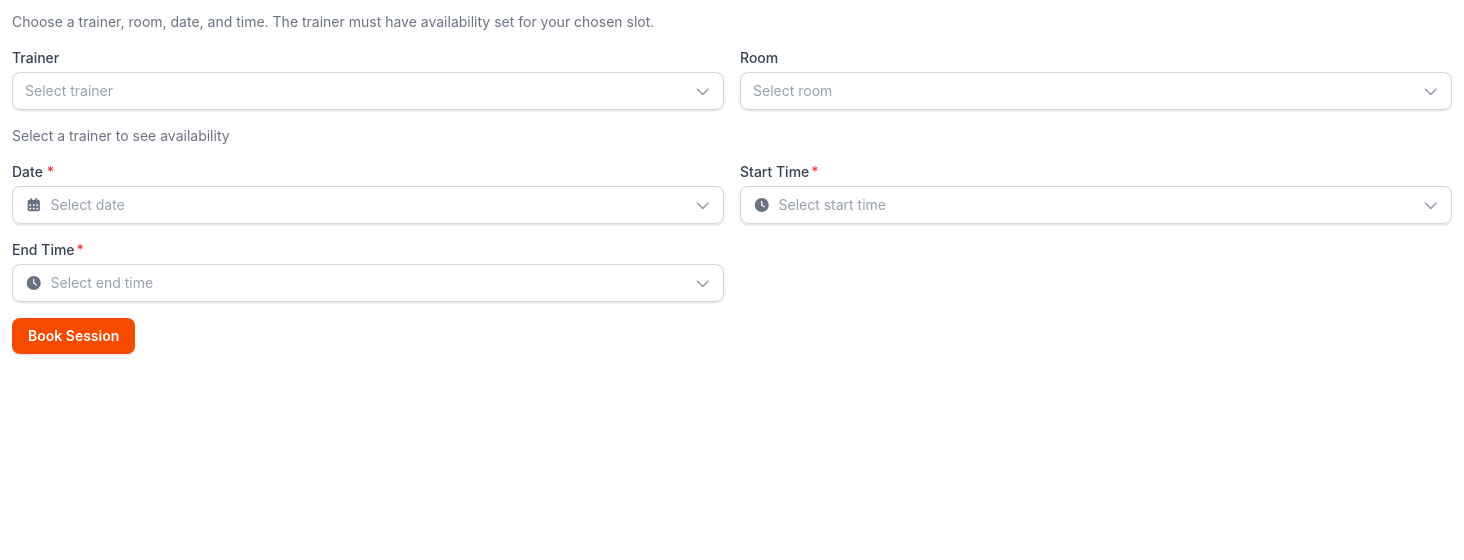
Scenario: Member Booking Integration Flow › selects a trainer from dropdown
Expected: the text "Select trainer" is shown, [25, 81, 113, 101]
Click the button "Select trainer" at x=69, y=90, box [12, 72, 724, 110]
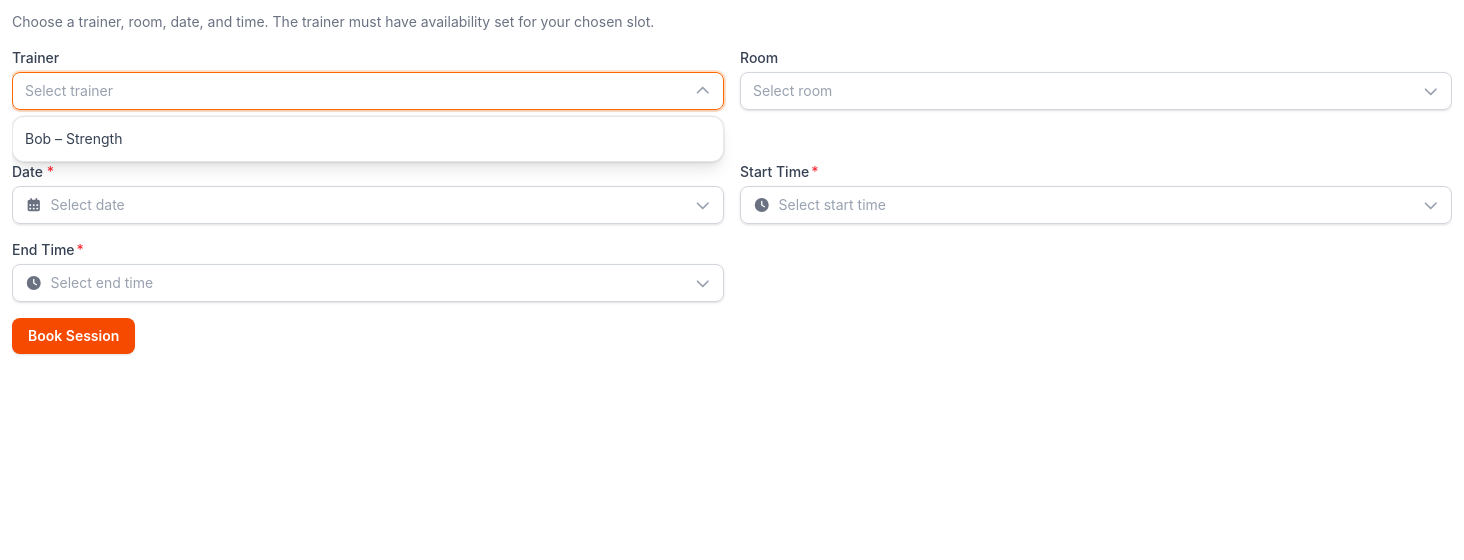
Click the button "Bob – Strength" at x=74, y=138, box [13, 121, 723, 157]
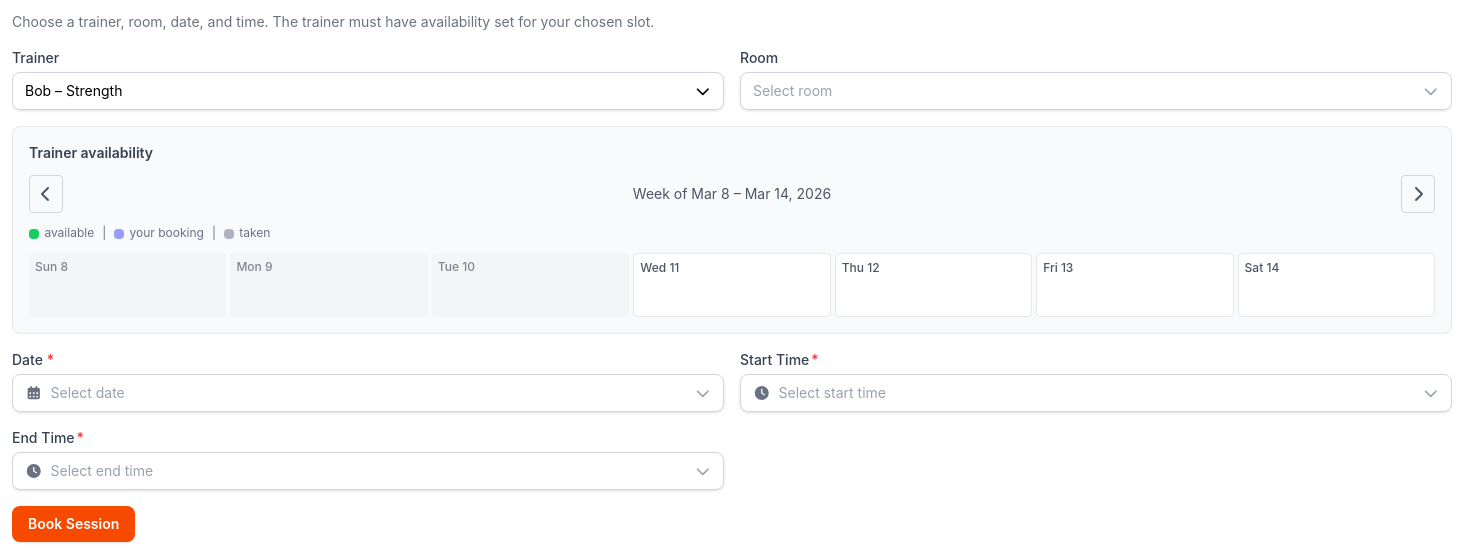
Expected: the text "Bob – Strength" is shown, [25, 81, 122, 101]
